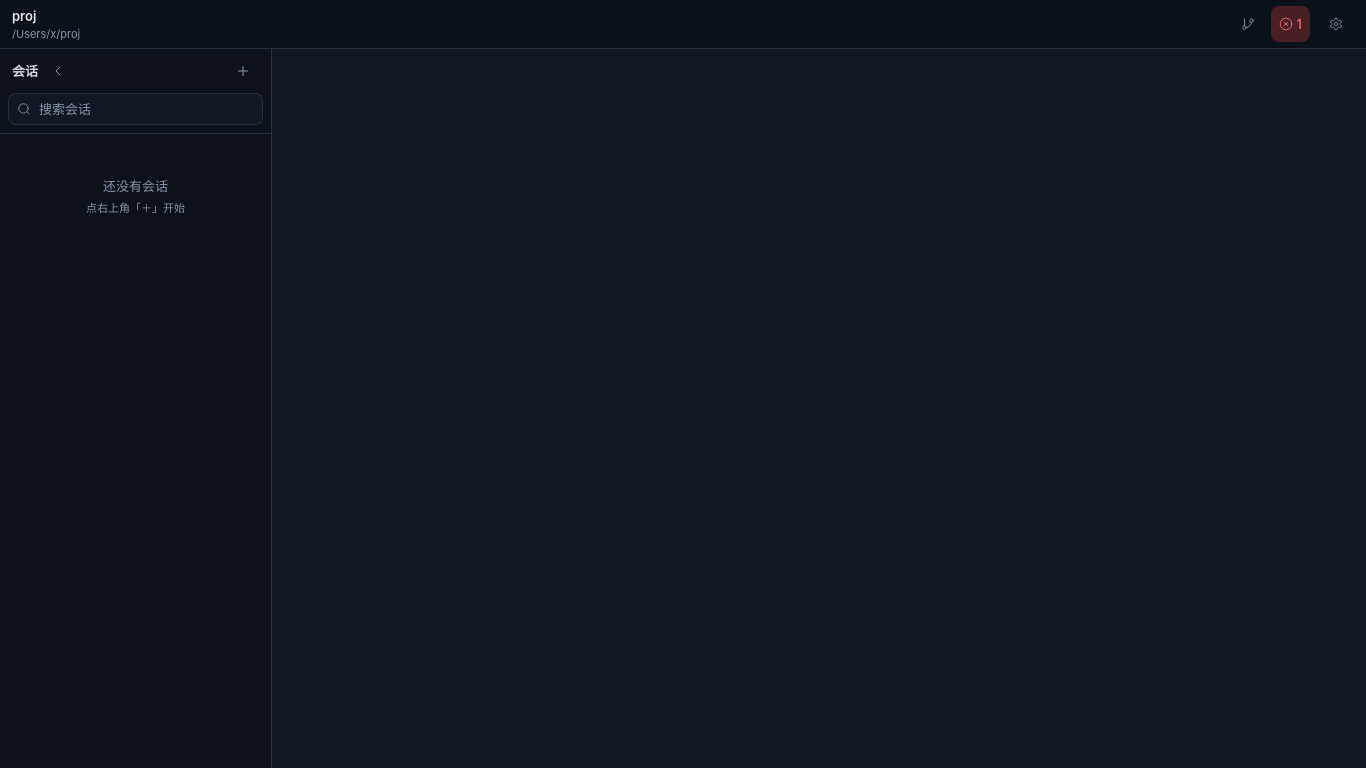
Scenario: session-native task delegation › does not offer a generic continue action while a failure blocks pending work
The width and height of the screenshot is (1366, 768).
Click the button named "打开任务活动" at (1290, 24), box left=1271, top=6, right=1310, bottom=42
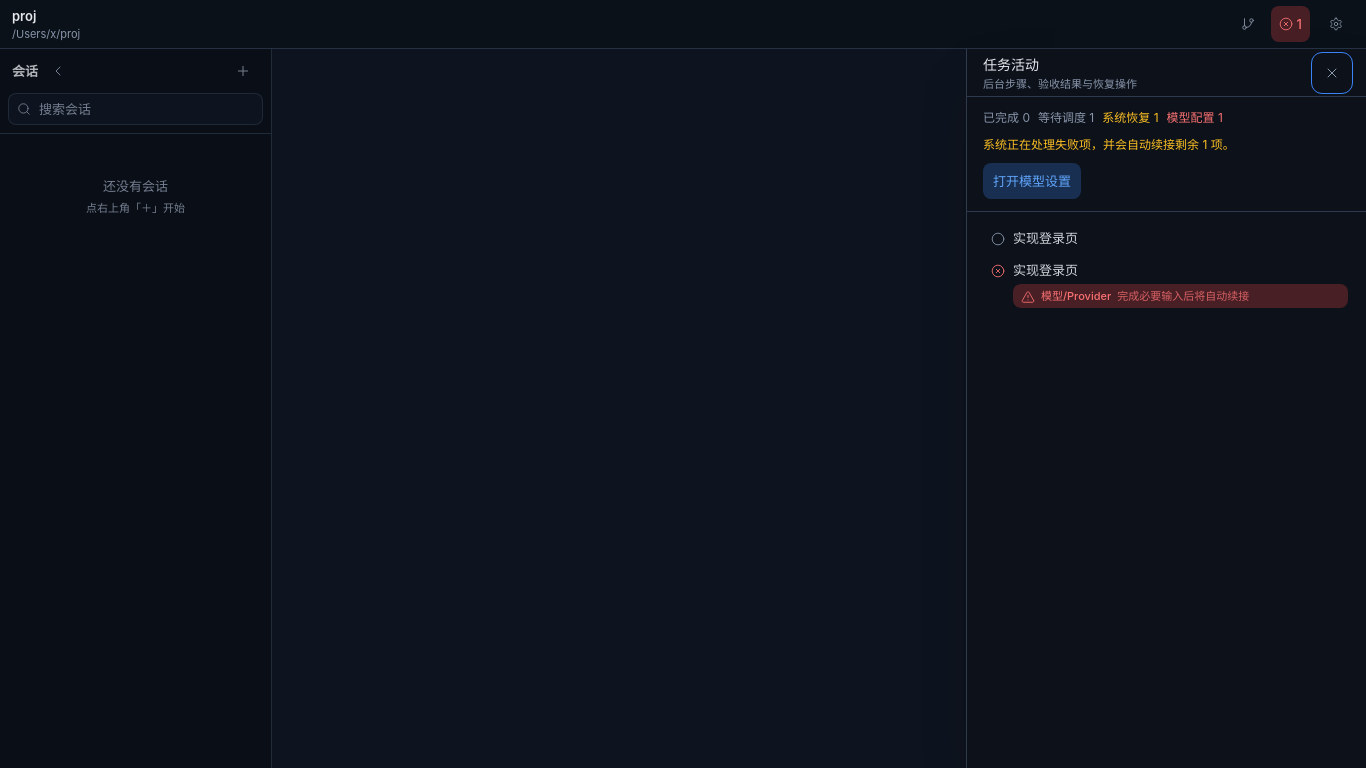
Expected: the text "系统正在处理失败项，并会自动续接剩余 1 项。" is shown, left=983, top=137, right=1235, bottom=152
Expected: the button "打开模型设置" is enabled, left=983, top=163, right=1081, bottom=199
